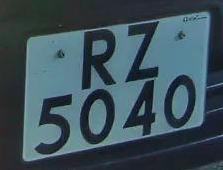0: (75, 86, 123, 150), (160, 70, 201, 132)
4: (122, 75, 163, 142)
5: (28, 87, 79, 161)
R: (72, 24, 125, 89)
Z: (118, 19, 168, 82)
